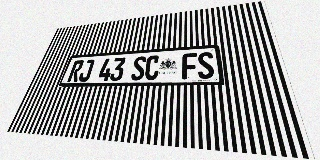3: (109, 57, 126, 81)
4: (97, 58, 114, 81)
C: (144, 55, 160, 80)
F: (182, 53, 198, 79)
J: (77, 59, 95, 82)
R: (67, 60, 85, 82)
S: (197, 52, 215, 79), (130, 56, 147, 81)
